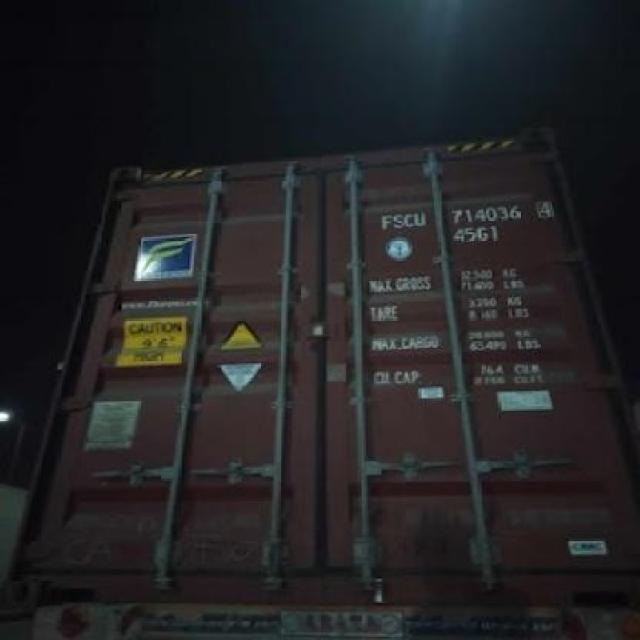ISO: (452, 224, 500, 244)
container_number: (381, 198, 553, 230)
